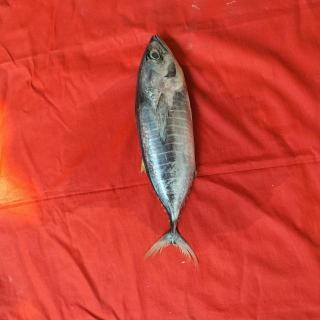Ikan: (120, 28, 215, 270)
